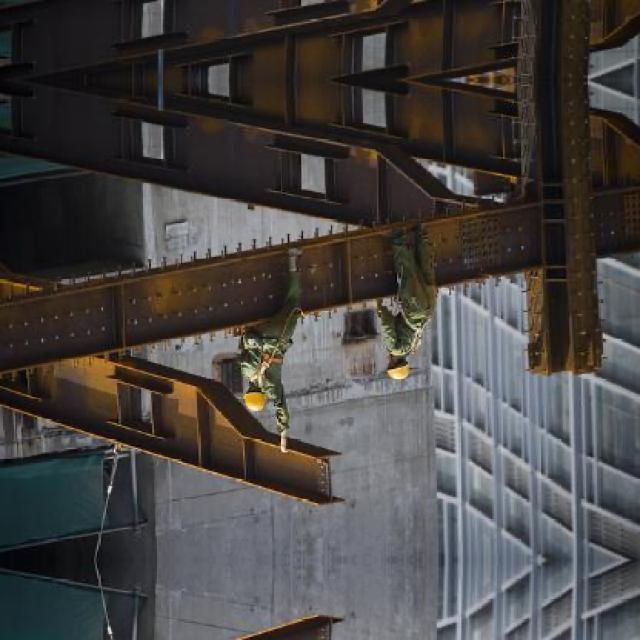con casco: (370, 315, 455, 397), (235, 363, 280, 438)
